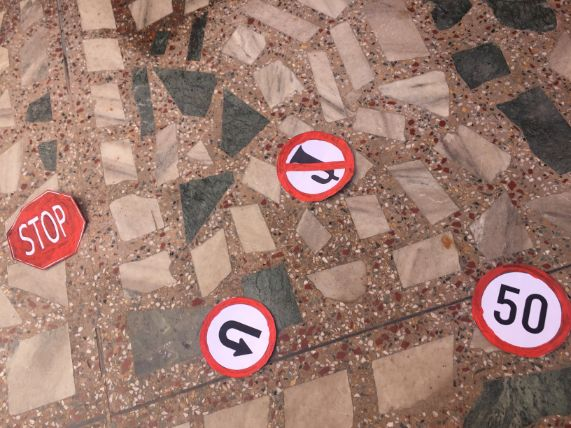no-horn: (275, 133, 353, 201)
speed-50: (472, 264, 569, 358)
stop: (7, 192, 87, 270)
u-turn: (200, 297, 275, 376)
